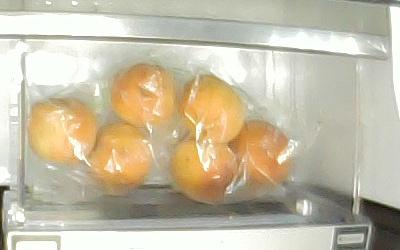peach_vinyl: (176, 72, 244, 145), (26, 97, 96, 164), (88, 120, 152, 189), (168, 134, 237, 198), (111, 62, 177, 127), (227, 120, 290, 187)
